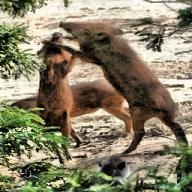boar: (51, 20, 188, 154)
